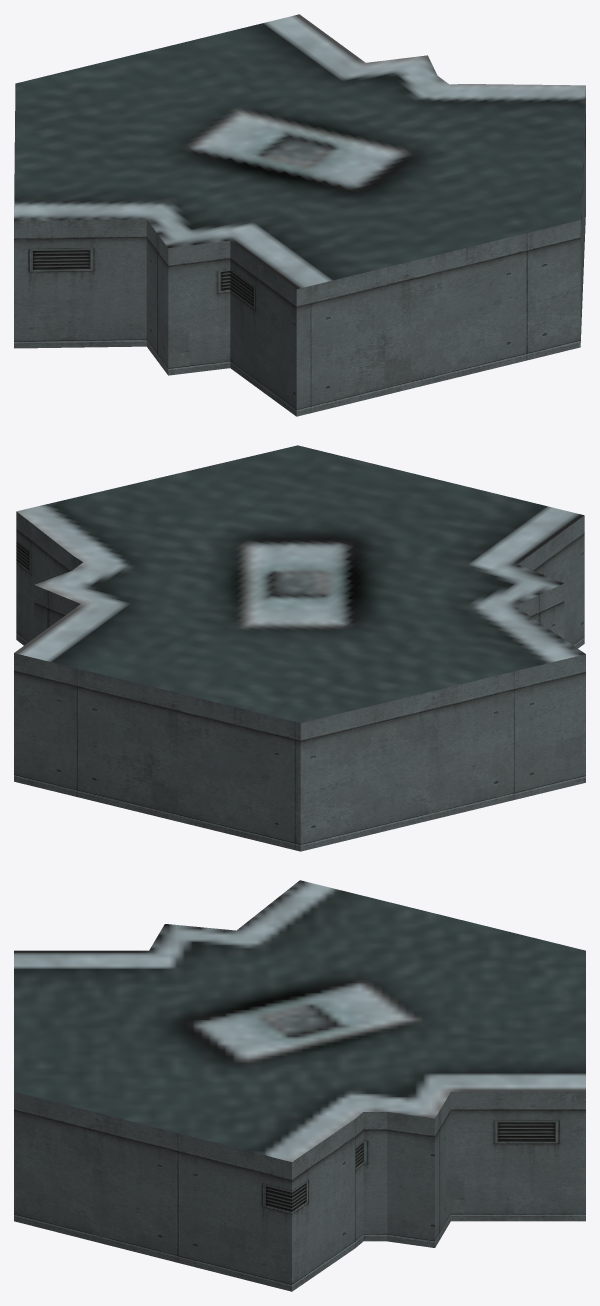
Rendered from medium_roof45.glb.
3 views of the same model, one above another, from view 1: azimuth 30°, elevation 25°; view 2: azimuth 150°, elevation 25°; view 3: azimuth 270°, elevation 25° (orthographic).
Parts seen in each view (by area): view 1: buildings/saxarba/medium/medium_roof45; view 2: buildings/saxarba/medium/medium_roof45; view 3: buildings/saxarba/medium/medium_roof45.
Boxes of the visible parts, x1,y1,x2,y2 form: buildings/saxarba/medium/medium_roof45: [14, 14, 585, 416]; buildings/saxarba/medium/medium_roof45: [14, 445, 585, 851]; buildings/saxarba/medium/medium_roof45: [14, 880, 585, 1291].
Size of the model in its own units: 84 by 18 by 72.
